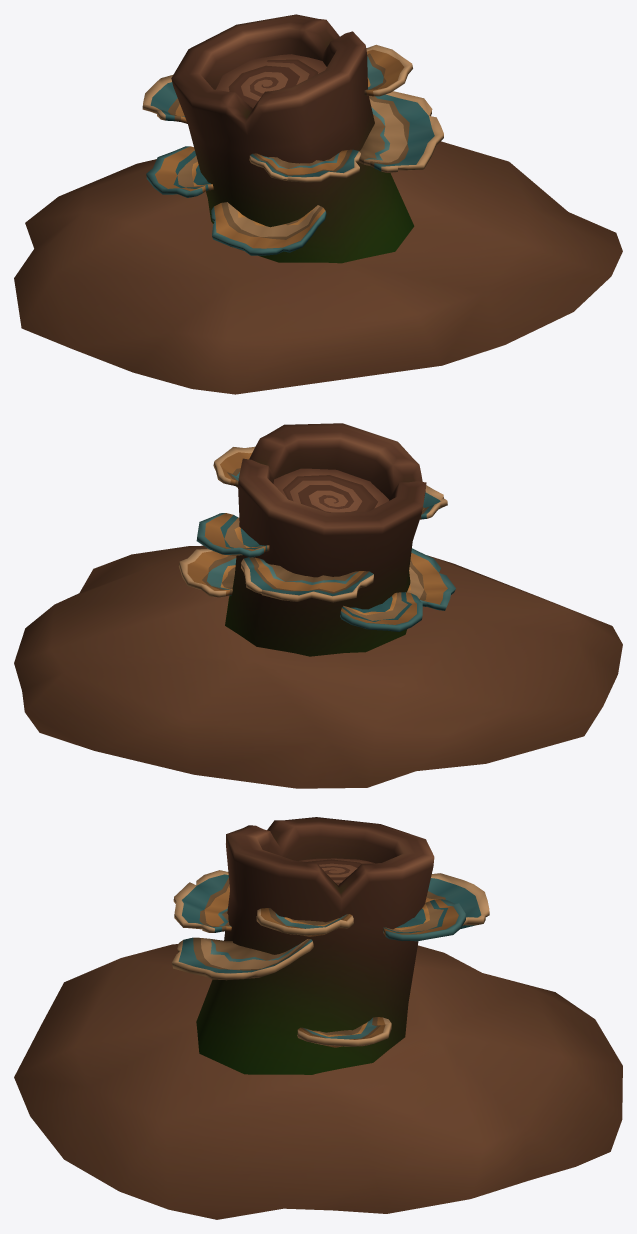
File: SM_PlantSoil_TurkeyTail_Lv2.fbx
The picture shows the model from 3 angles, top to bottom: view 1: azimuth 30°, elevation 25°; view 2: azimuth 150°, elevation 25°; view 3: azimuth 270°, elevation 25°; orthographic projection. The views are drawn at different scales.
Visible parts, largest first — view 1: SM_PlantSoil_TurkeyTail_Lv2; view 2: SM_PlantSoil_TurkeyTail_Lv2; view 3: SM_PlantSoil_TurkeyTail_Lv2.
Boxes of the visible parts, x1,y1,x2,y2 form: SM_PlantSoil_TurkeyTail_Lv2: [14, 14, 622, 394]; SM_PlantSoil_TurkeyTail_Lv2: [14, 423, 622, 788]; SM_PlantSoil_TurkeyTail_Lv2: [14, 817, 622, 1219].
Size of the model in its own units: 118 by 51.64 by 106.
